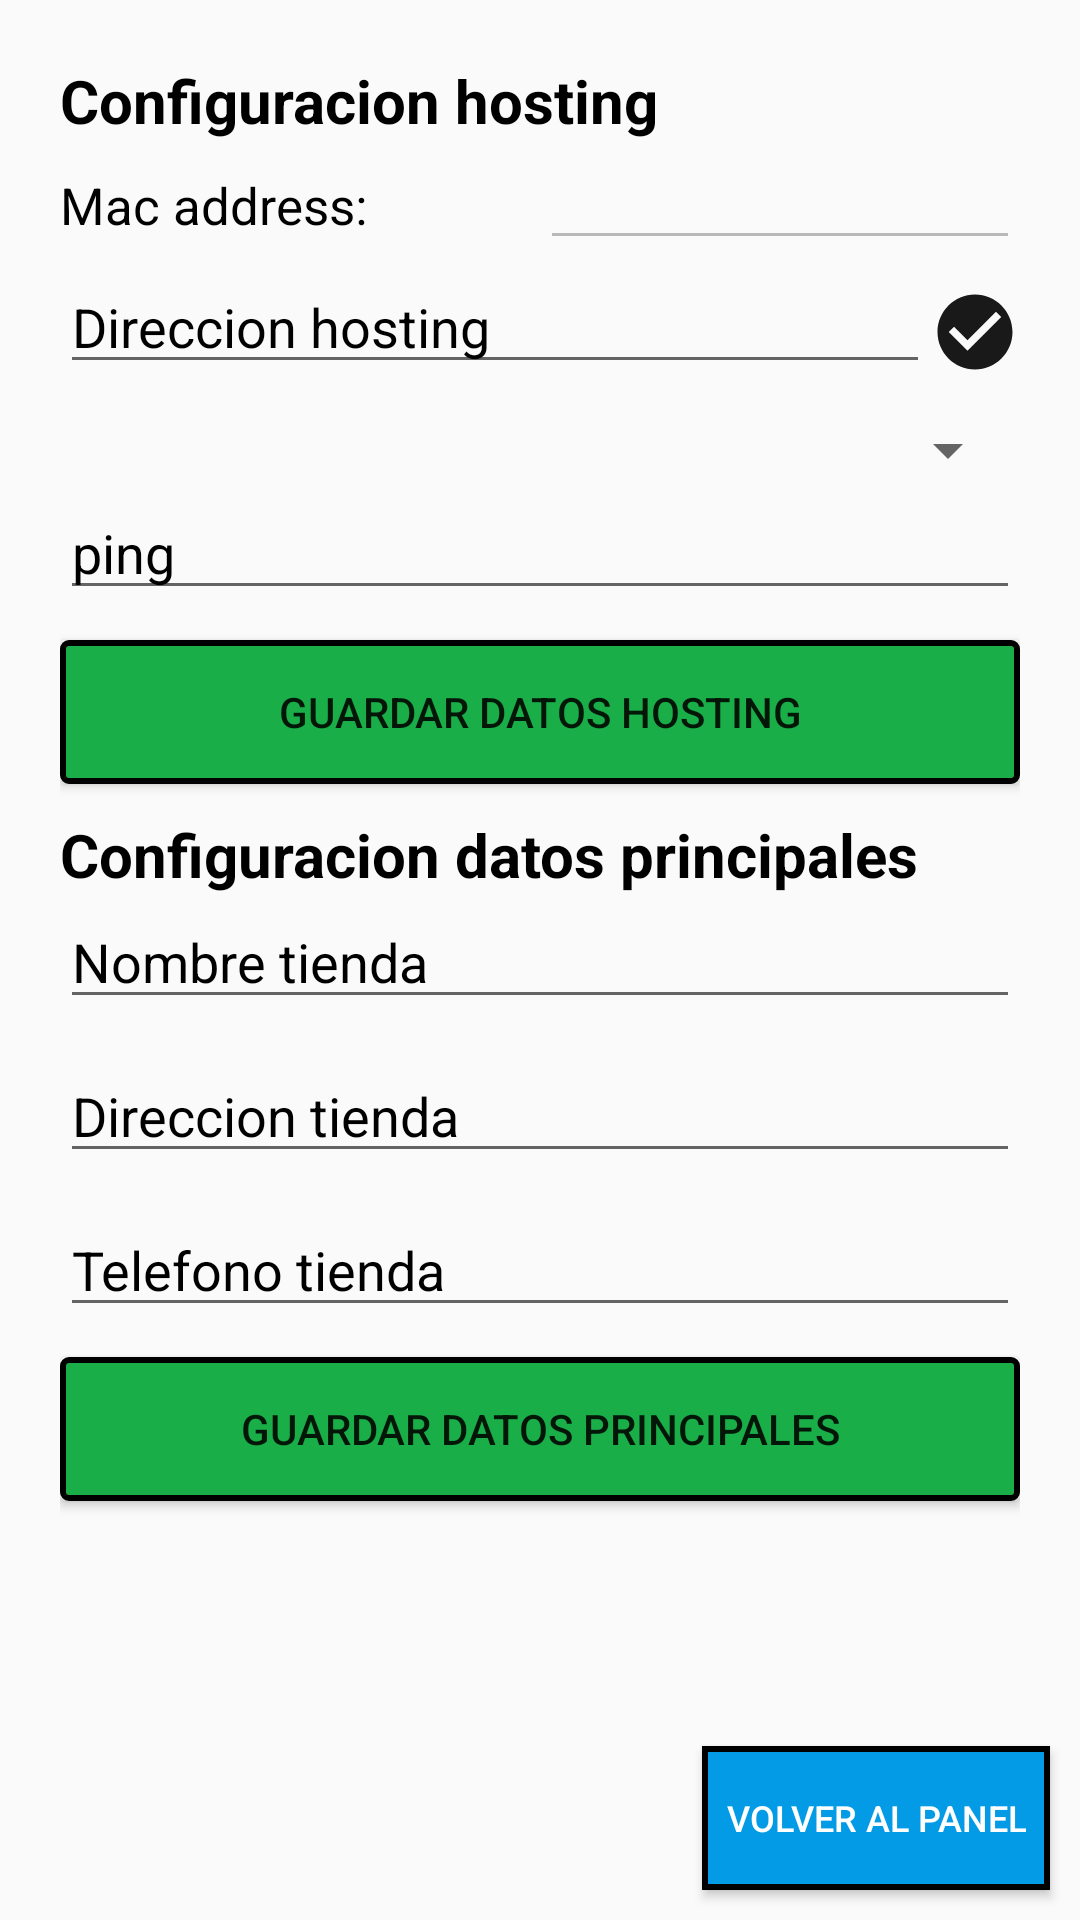

Named icons in this screenshot (1080px x 1920px) and their centers, point (x, y):
accept: point (975, 332)
